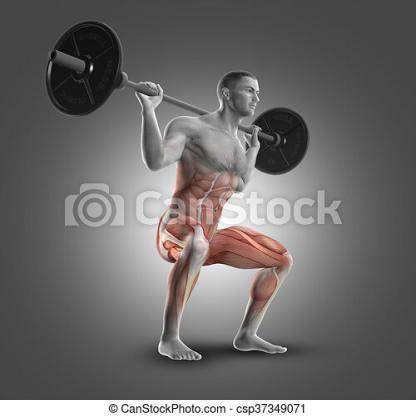Barbell: (49, 49, 62, 64)
